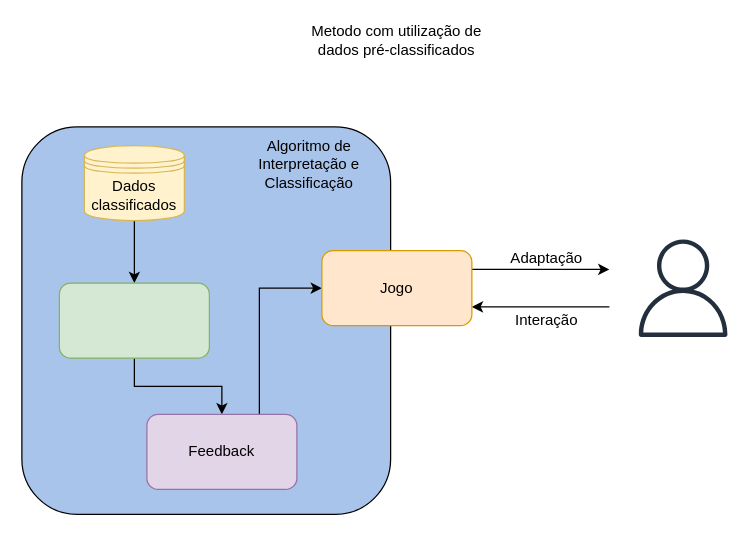
The diagram is 754 pixels wide and 536 high, and some of its shapes have lost their labels. The centre of each missing label's shape, as x and y in pixels:
"Interpretação" goes at (x=133, y=320).
"Jogador" goes at (x=682, y=287).
